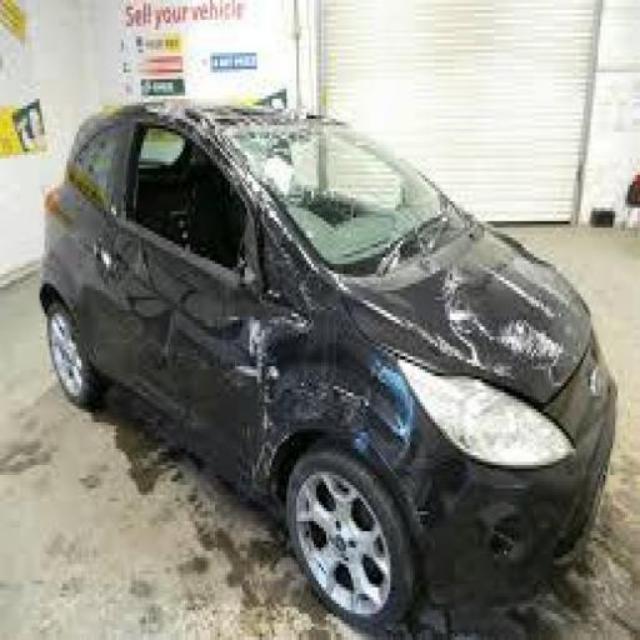dent: (261, 230, 413, 463)
glass shatter: (195, 111, 476, 282), (126, 127, 243, 271)
rub: (440, 265, 577, 363)
